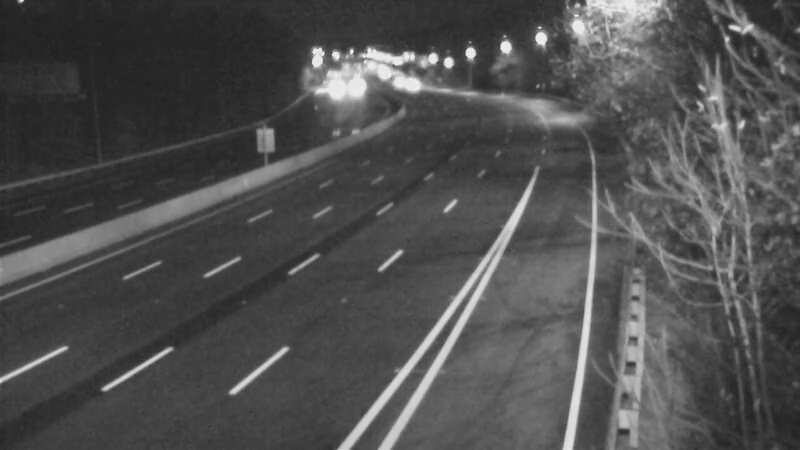vehicle: (372, 59, 422, 109), (383, 55, 433, 105), (311, 58, 361, 108), (332, 60, 382, 110)
